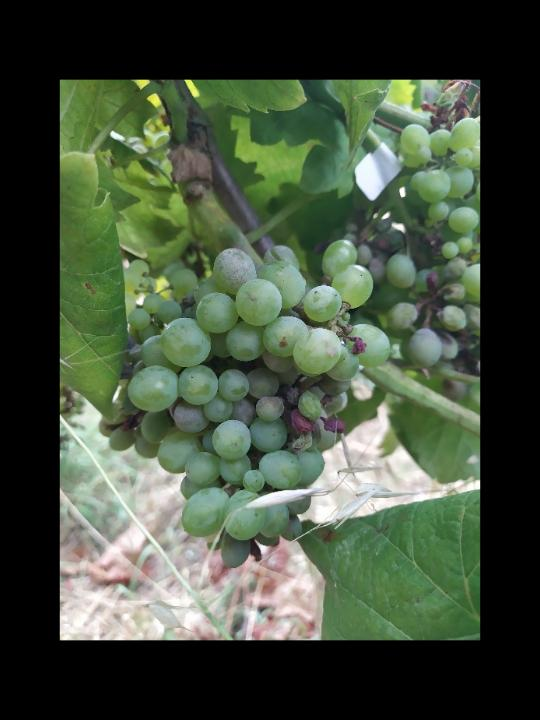grape: (124, 237, 394, 570)
